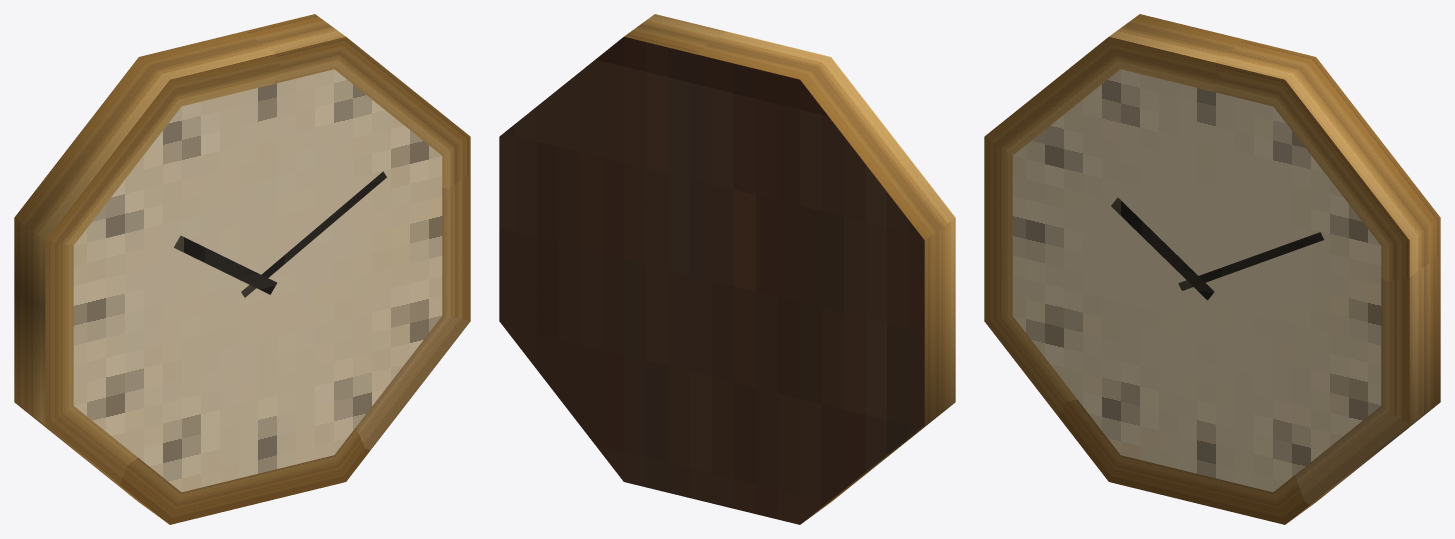
The model's file is brass-wall-clock.obj.
3 renders of one model, left to right at view 1: azimuth 30°, elevation 25°; view 2: azimuth 150°, elevation 25°; view 3: azimuth 330°, elevation 25°, orthographic.
Parts seen in each view (by area): view 1: brass-wall-clock; view 2: brass-wall-clock; view 3: brass-wall-clock.
Boxes of the visible parts, x1,y1,x2,y2 form: brass-wall-clock: (14,14,470,524); brass-wall-clock: (499,14,955,524); brass-wall-clock: (984,14,1440,524).
Size of the model in its own units: 0.2772 by 0.2772 by 0.036.
1 material, 1 textured.
